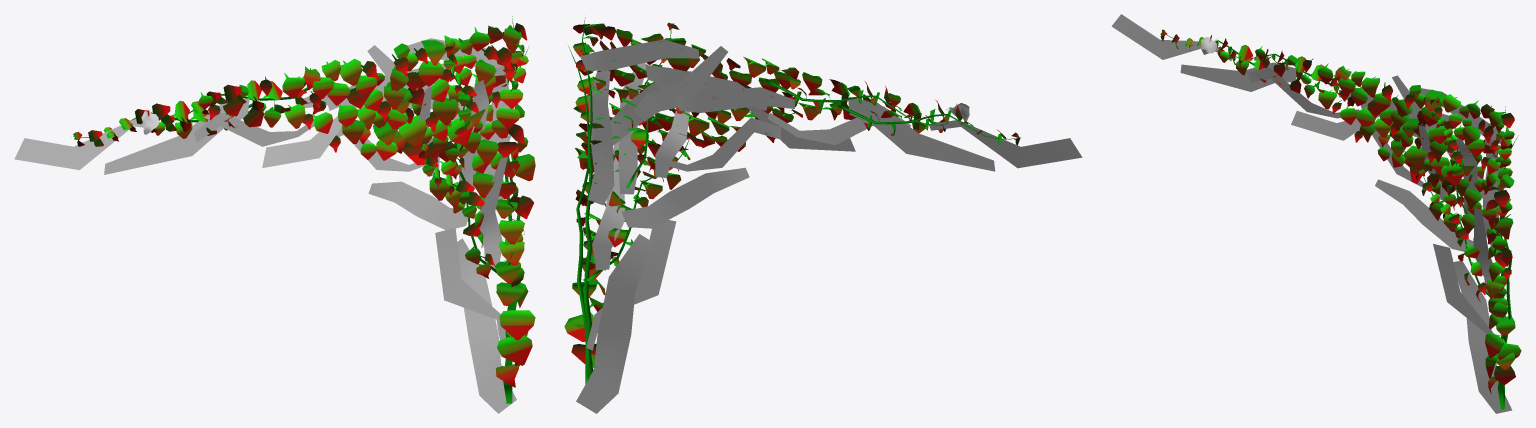
The model's file is S_English_Ivy_rkEit_Var2_lod1.FBX.
3 views of the same model, side by side, from view 1: azimuth 30°, elevation 25°; view 2: azimuth 150°, elevation 25°; view 3: azimuth 330°, elevation 25° (orthographic). The views are drawn at different scales.
Visible parts, largest first — view 1: S_English_Ivy_rkEit_Var2_lod1_LOD0; view 2: S_English_Ivy_rkEit_Var2_lod1_LOD0; view 3: S_English_Ivy_rkEit_Var2_lod1_LOD0.
Boxes of the visible parts, <box> form: S_English_Ivy_rkEit_Var2_lod1_LOD0: <box>14,16,535,413</box>; S_English_Ivy_rkEit_Var2_lod1_LOD0: <box>564,17,1082,413</box>; S_English_Ivy_rkEit_Var2_lod1_LOD0: <box>1111,14,1521,413</box>.
Bounding box in the file's own units: 126 × 9.53 × 93.47.
